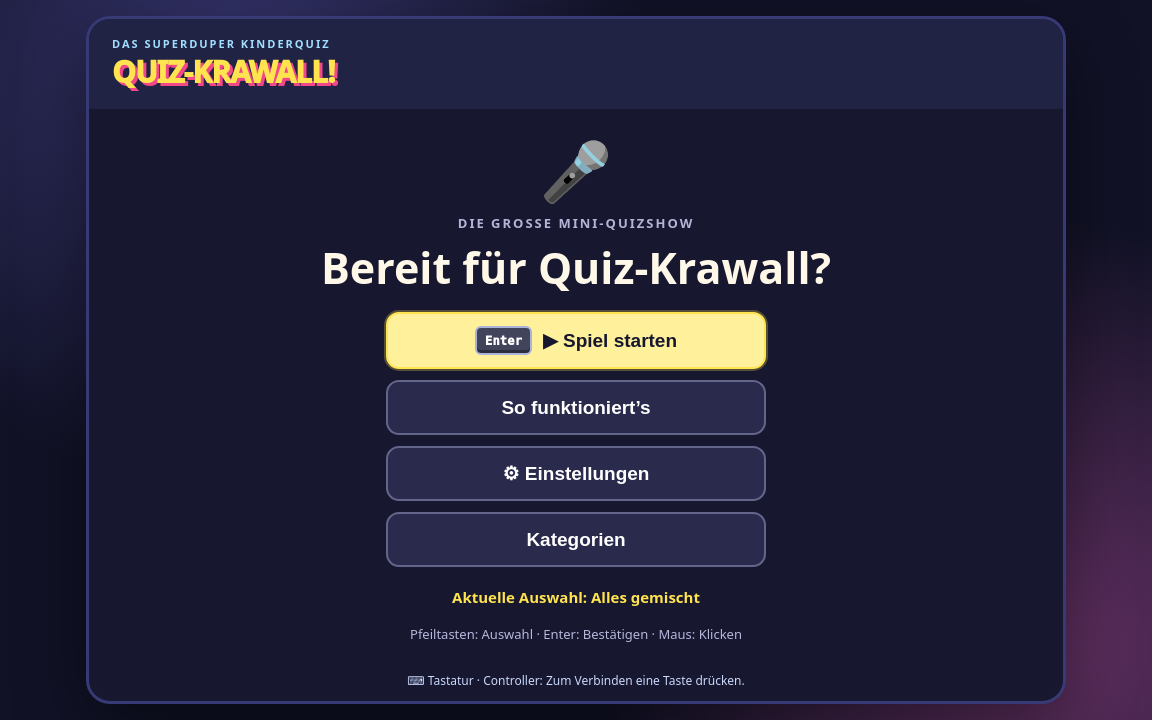
Test: quiz app interaction › renders menu and instructions and navigates back via keyboard
Expected: the heading "Bereit für Quiz-Krawall?" is shown, x1=321 y1=238 x2=831 y2=297
Click the button "So funktioniert’s" at (576, 408), box x1=386 y1=380 x2=766 y2=435
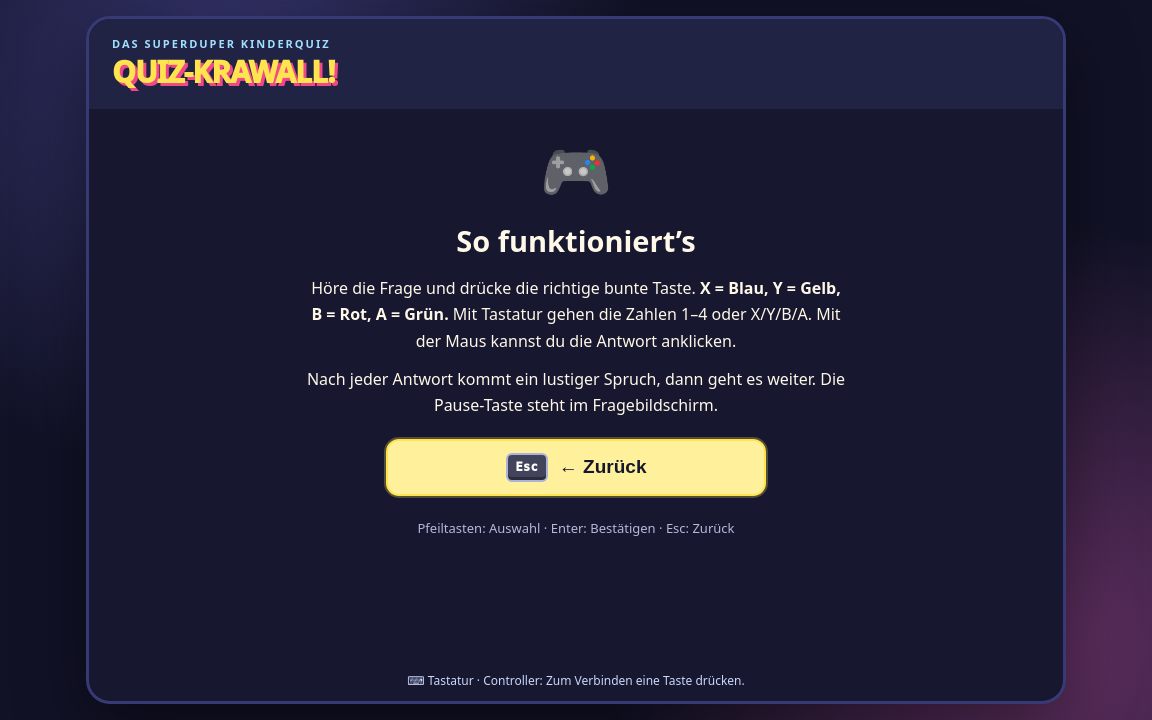
Expected: the heading "So funktioniert’s" is shown, x1=456 y1=221 x2=696 y2=260
Press Escape
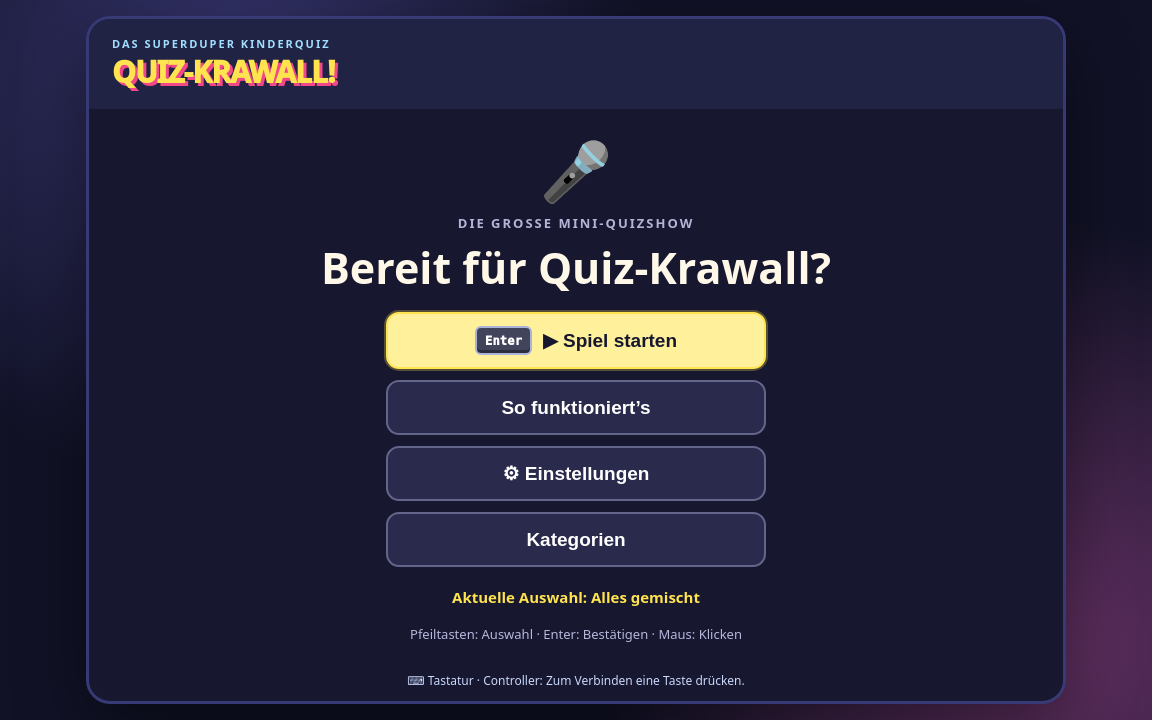
Now the heading "Bereit für Quiz-Krawall?" is shown, box x1=321 y1=238 x2=831 y2=297
